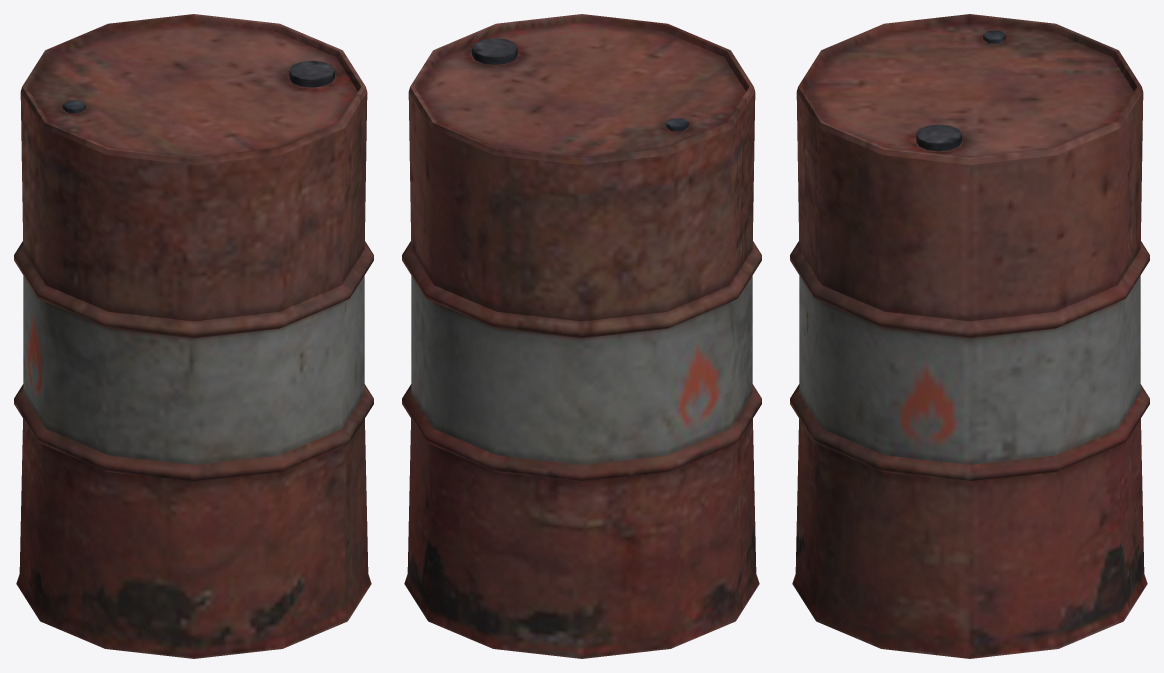
The model's file is FlammableBarrel.FBX.
3 renders of one model, left to right at view 1: azimuth 30°, elevation 25°; view 2: azimuth 150°, elevation 25°; view 3: azimuth 270°, elevation 25°, orthographic.
Parts seen in each view (by area): view 1: FlammableBarrel; view 2: FlammableBarrel; view 3: FlammableBarrel.
Boxes of the visible parts, x1=… form: FlammableBarrel: x1=14, y1=14, x2=373, y2=658; FlammableBarrel: x1=402, y1=14, x2=761, y2=658; FlammableBarrel: x1=790, y1=14, x2=1149, y2=658.
Size of the model in its own units: 51.21 by 78.45 by 51.21.
